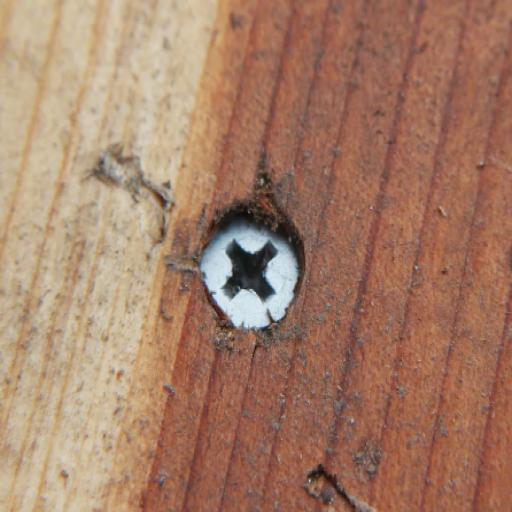Phillips: (200, 211, 306, 335)
